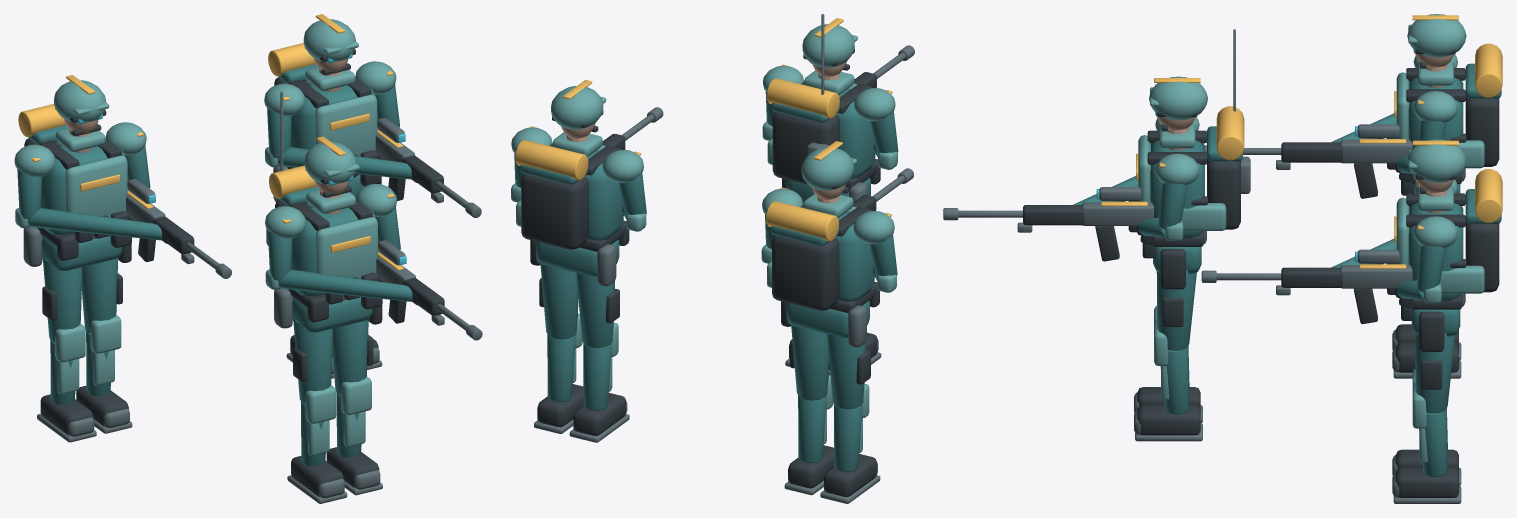
The model's file is meridian-infantry-squad.glb.
3 renders of one model, left to right at view 1: azimuth 30°, elevation 25°; view 2: azimuth 150°, elevation 25°; view 3: azimuth 270°, elevation 25°, orthographic. The views are drawn at different scales.
Parts seen in each view (by area): view 1: Soldier1_BodyMesh, Soldier2_BodyMesh, Soldier3_BodyMesh, Soldier1_ArmsMesh, Soldier2_ArmsMesh, Soldier2_LegLeftMesh, Soldier1_LegLeftMesh, Soldier1_LegRightMesh, Soldier2_LegRightMesh, Soldier3_ArmsMesh; view 2: Soldier3_BodyMesh, Soldier2_BodyMesh, Soldier1_BodyMesh, Soldier3_LegLeftMesh, Soldier2_LegLeftMesh, Soldier3_LegRightMesh, Soldier2_LegRightMesh, Soldier3_ArmsMesh, Soldier1_ArmsMesh, Soldier2_ArmsMesh; view 3: Soldier1_BodyMesh, Soldier3_BodyMesh, Soldier2_BodyMesh, Soldier3_ArmsMesh, Soldier1_ArmsMesh, Soldier3_LegRightMesh, Soldier1_LegRightMesh, Soldier2_ArmsMesh, Soldier2_LegRightMesh, Soldier3_LegLeftMesh, Soldier1_LegLeftMesh.
Boxes of the visible parts, x1,y1,x2,y2 form: Soldier1_BodyMesh: [265, 91, 397, 332]; Soldier2_BodyMesh: [14, 75, 146, 271]; Soldier3_BodyMesh: [264, 14, 396, 201]; Soldier1_ArmsMesh: [265, 207, 482, 340]; Soldier2_ArmsMesh: [15, 146, 231, 278]; Soldier2_LegLeftMesh: [37, 257, 96, 442]; Soldier1_LegLeftMesh: [287, 319, 347, 503]; Soldier1_LegRightMesh: [326, 319, 382, 495]; Soldier2_LegRightMesh: [76, 257, 132, 433]; Soldier3_ArmsMesh: [265, 84, 481, 217]; Soldier3_BodyMesh: [511, 80, 643, 286]; Soldier2_BodyMesh: [762, 141, 894, 347]; Soldier1_BodyMesh: [763, 14, 895, 203]; Soldier3_LegLeftMesh: [569, 273, 629, 442]; Soldier2_LegLeftMesh: [820, 334, 880, 503]; Soldier3_LegRightMesh: [534, 263, 583, 433]; Soldier2_LegRightMesh: [784, 325, 834, 495]; Soldier3_ArmsMesh: [511, 107, 663, 231]; Soldier1_ArmsMesh: [762, 45, 914, 169]; Soldier2_ArmsMesh: [761, 168, 913, 292]; Soldier1_BodyMesh: [1128, 29, 1250, 289]; Soldier3_BodyMesh: [1387, 139, 1502, 351]; Soldier2_BodyMesh: [1387, 14, 1502, 195]; Soldier3_ArmsMesh: [1201, 239, 1484, 324]; Soldier1_ArmsMesh: [943, 176, 1226, 261]; Soldier3_LegRightMesh: [1392, 332, 1461, 503]; Soldier1_LegRightMesh: [1134, 270, 1202, 441]; Soldier2_ArmsMesh: [1204, 113, 1484, 198]; Soldier2_LegRightMesh: [1392, 342, 1461, 378]; Soldier3_LegLeftMesh: [1392, 369, 1461, 485]; Soldier1_LegLeftMesh: [1134, 306, 1202, 422].
Bounding box in the file's own units: 2.12 × 2.01 × 2.64.
